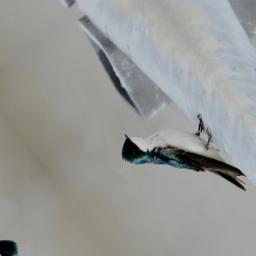Swallow: (109, 87, 256, 243)
